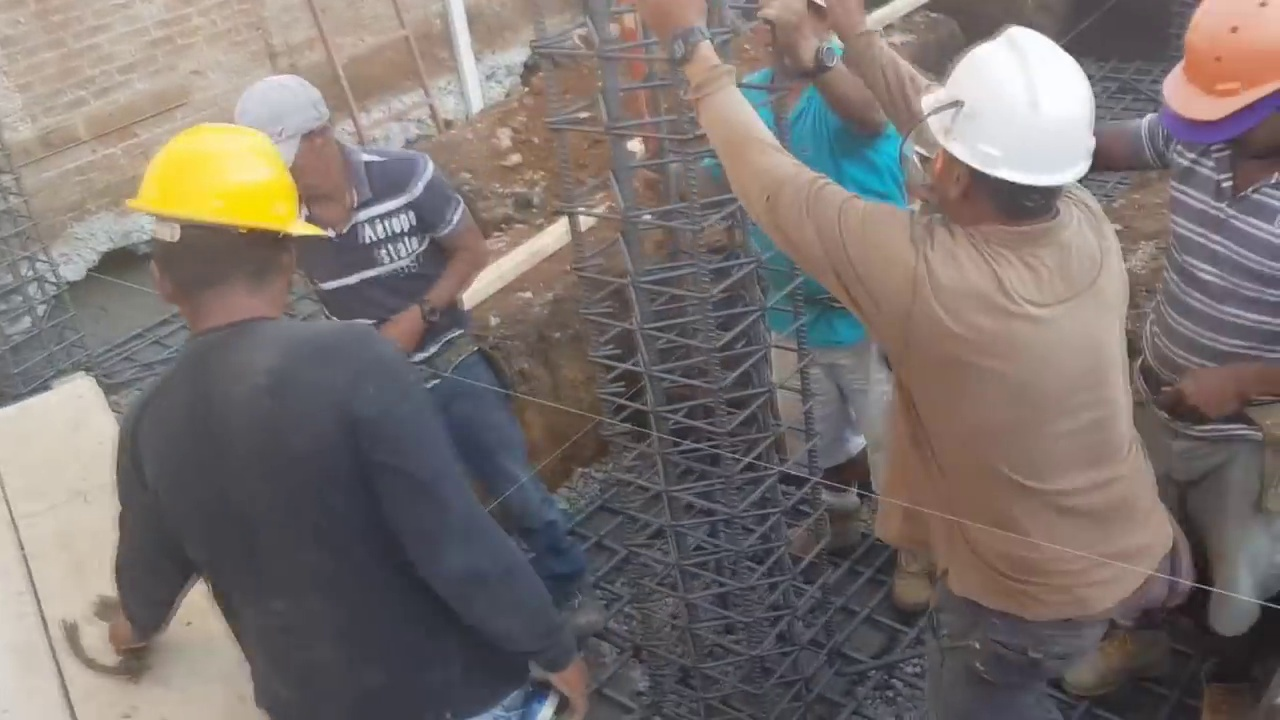helmet: (924, 24, 1096, 186), (127, 113, 324, 240), (1165, 0, 1280, 130)
helmet-off: (225, 73, 363, 231)
helmet-on: (121, 116, 323, 332), (910, 28, 1102, 238), (1161, 4, 1280, 207)
person: (634, 2, 1176, 719), (101, 87, 631, 710), (212, 80, 608, 638), (709, 3, 940, 618), (1135, 2, 1280, 628)
